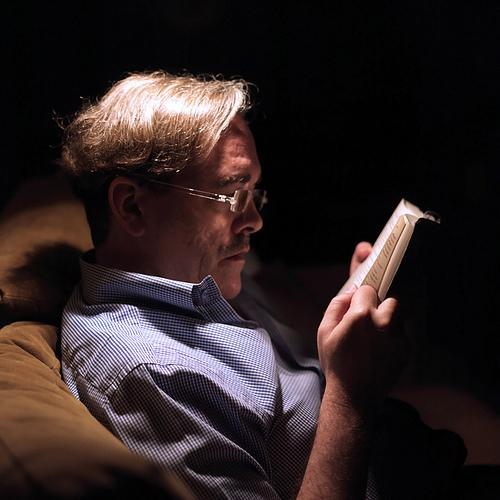person: (56, 73, 500, 500)
